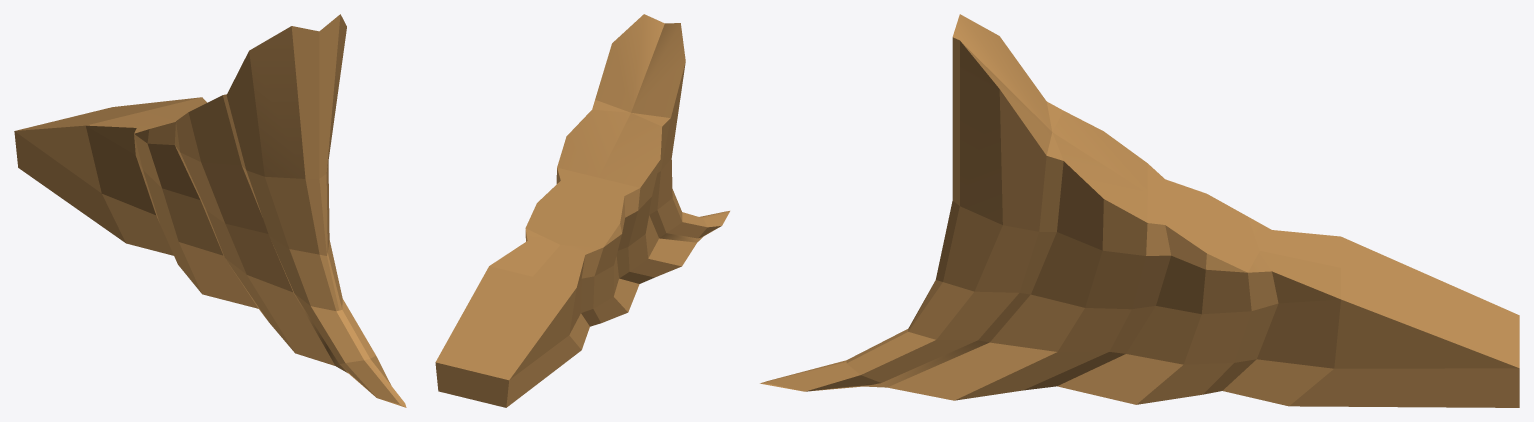
The model's file is SM_Veh_Ship_L_Ram_01.fbx.
The picture shows the model from 3 angles, left to right: view 1: azimuth 30°, elevation 25°; view 2: azimuth 150°, elevation 25°; view 3: azimuth 270°, elevation 25°; orthographic projection. The views are drawn at different scales.
Visible parts, largest first — view 1: SM_Veh_Ship_L_Ram_01; view 2: SM_Veh_Ship_L_Ram_01; view 3: SM_Veh_Ship_L_Ram_01.
Boxes of the visible parts, x1,y1,x2,y2 form: SM_Veh_Ship_L_Ram_01: (14, 14, 406, 407); SM_Veh_Ship_L_Ram_01: (435, 14, 729, 407); SM_Veh_Ship_L_Ram_01: (760, 14, 1519, 407).
Size of the model in its own units: 191 by 476 by 909.
